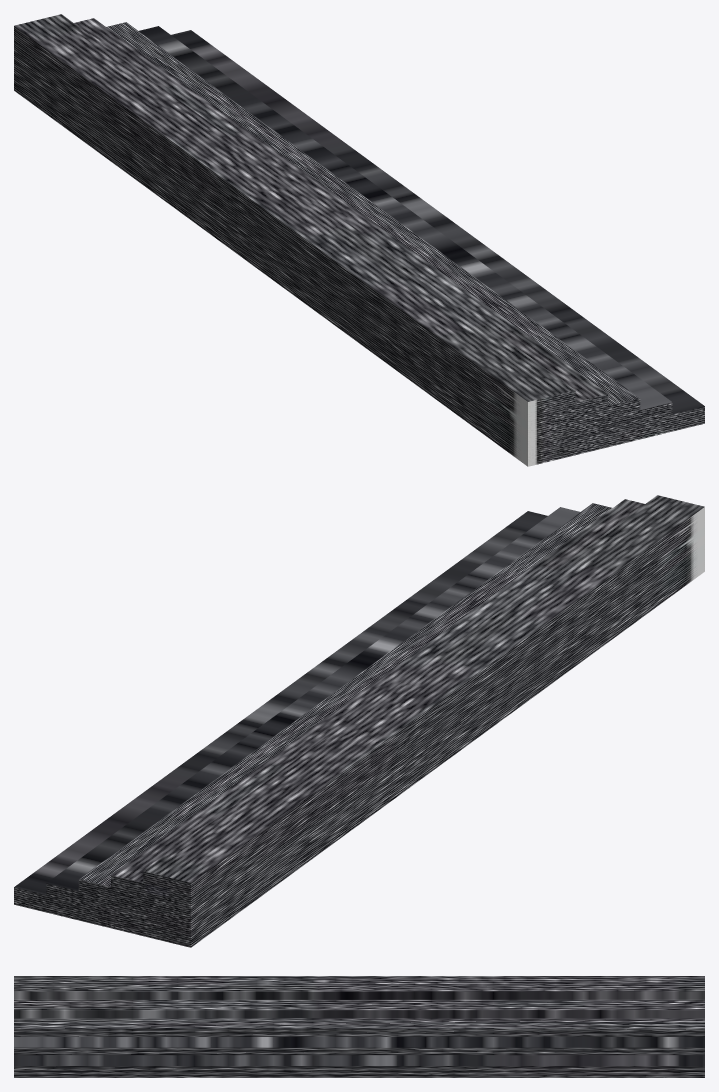
The model's file is Steps.fbx.
3 views of the same model, one above another, from view 1: azimuth 30°, elevation 25°; view 2: azimuth 150°, elevation 25°; view 3: azimuth 270°, elevation 25° (orthographic). The views are drawn at different scales.
Visible parts, largest first — view 1: Cube; view 2: Cube; view 3: Cube.
Part boxes in pixels (<box>): Cube: <box>14,14,704,466</box>; Cube: <box>14,495,704,947</box>; Cube: <box>14,976,704,1077</box>.
Size of the model in its own units: 200 by 70.05 by 1006.
